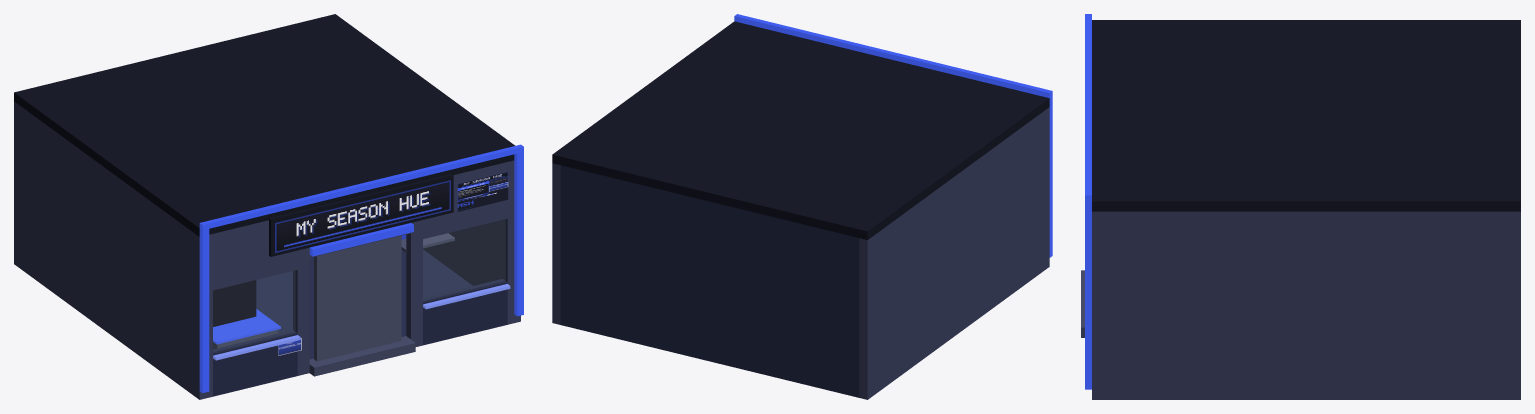
Rendered from plot.glb.
3 views of the same model, side by side, from view 1: azimuth 30°, elevation 25°; view 2: azimuth 150°, elevation 25°; view 3: azimuth 270°, elevation 25° (orthographic). The views are drawn at different scales.
Visible parts, largest first — view 1: facade, neon, sign_1, door_panel_L, door_panel_R, pic_1, lintel; view 2: facade, neon; view 3: facade, neon.
Part boxes in pixels (left/top/right/bottom): facade: left=14, top=14, right=520, bottom=399; neon: left=199, top=144, right=523, bottom=393; sign_1: left=275, top=180, right=450, bottom=252; door_panel_L: left=314, top=246, right=359, bottom=361; door_panel_R: left=359, top=235, right=401, bottom=350; pic_1: left=457, top=172, right=508, bottom=211; lintel: left=309, top=223, right=413, bottom=256; facade: left=552, top=21, right=1049, bottom=399; neon: left=734, top=14, right=1052, bottom=257; facade: left=1081, top=20, right=1520, bottom=399; neon: left=1085, top=14, right=1091, bottom=389.
Bounding box in the file's own units: 9.5 × 5 × 9.74.
Materials: 4 (3 with a texture image).
